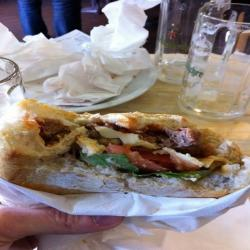burger: (2, 99, 242, 214)
